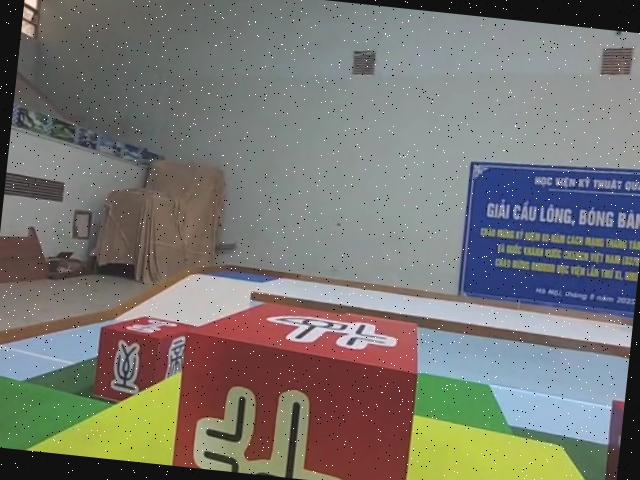R2 Fake: (91, 307, 196, 410)
R2 Real: (168, 286, 426, 480), (594, 398, 625, 480)
